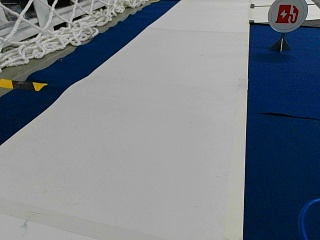battery: (267, 0, 308, 33)
